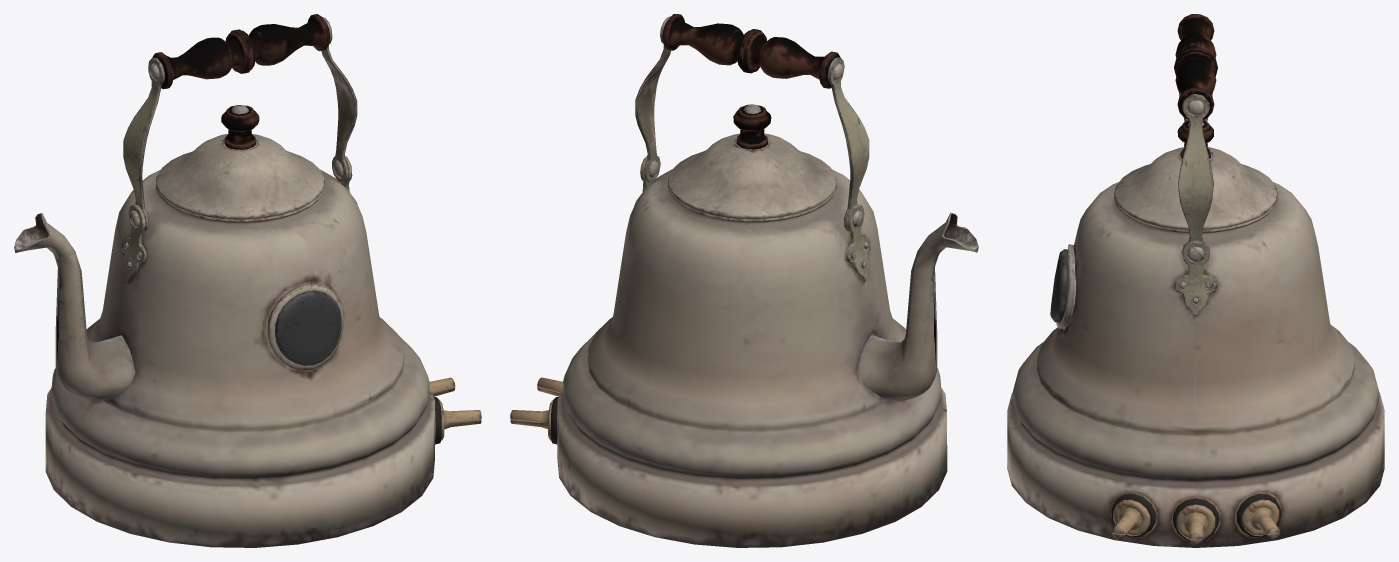
Rendered from vintage_electric_kettle.glb.
The picture shows the model from 3 angles, left to right: view 1: azimuth 30°, elevation 25°; view 2: azimuth 150°, elevation 25°; view 3: azimuth 270°, elevation 25°; orthographic projection. The views are drawn at different scales.
Visible parts, largest first — view 1: vintage_electric_kettle; view 2: vintage_electric_kettle; view 3: vintage_electric_kettle.
Boxes of the visible parts, x1,y1,x2,y2 form: vintage_electric_kettle: (14, 14, 481, 547); vintage_electric_kettle: (510, 14, 978, 547); vintage_electric_kettle: (1007, 14, 1384, 547).
Size of the model in its own units: 0.3209 by 0.3044 by 0.2478.
Materials: 2 (2 with a texture image).
